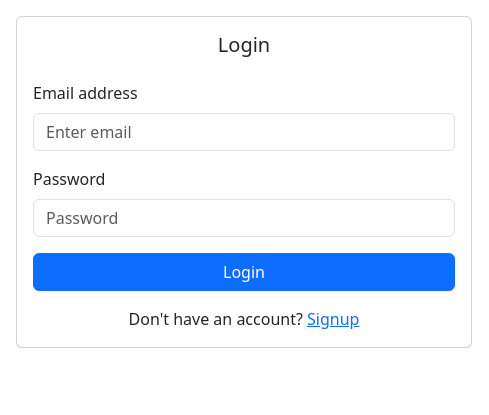
LoginPage › shows validation errors on empty submit
Click the button "Login": (244, 272) x1=33 y1=253 x2=455 y2=291
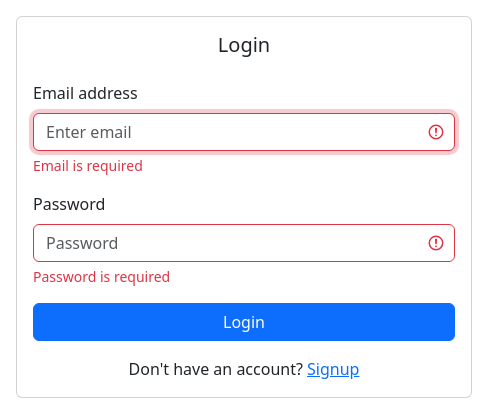
expect the text "Email is required" is shown: met, box x1=33 y1=156 x2=143 y2=175
expect the text "Password is required" is shown: met, box x1=33 y1=267 x2=170 y2=286
